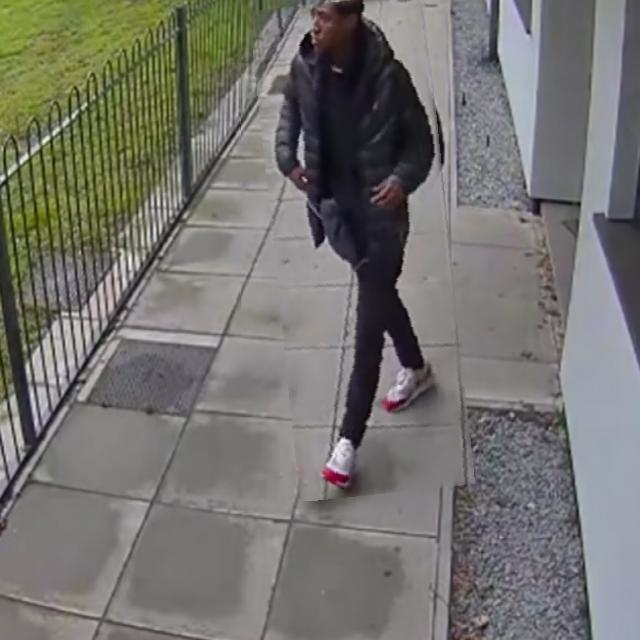Jacket_Wearer: (281, 44, 453, 276)
Person: (269, 0, 456, 468)
